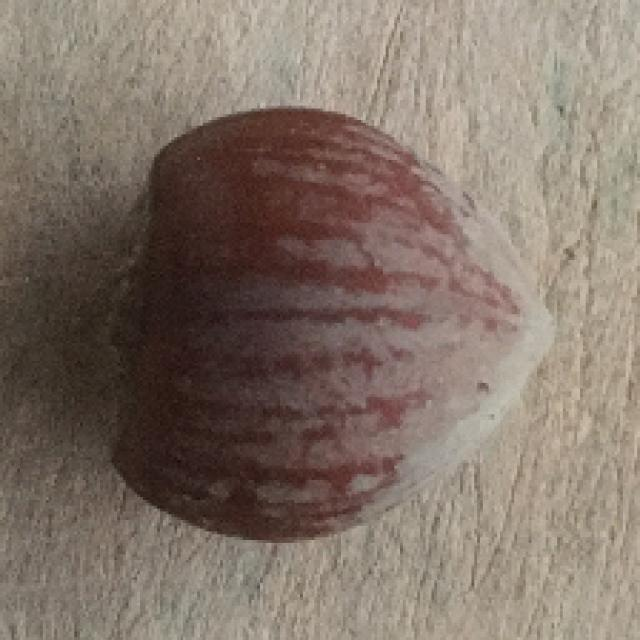QualityHazelnut: (95, 109, 566, 541)
